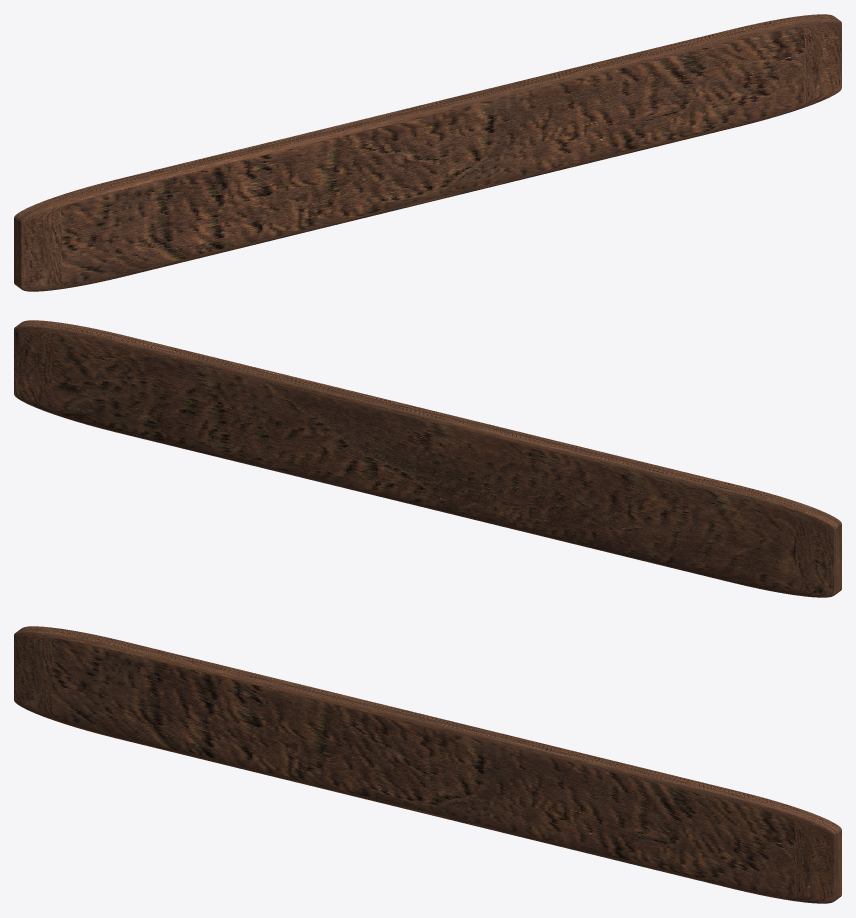
Rendered from WoodenBlank.fbx.
The picture shows the model from 3 angles, top to bottom: view 1: azimuth 30°, elevation 25°; view 2: azimuth 150°, elevation 25°; view 3: azimuth 330°, elevation 25°; orthographic projection.
Visible parts, largest first — view 1: Cube; view 2: Cube; view 3: Cube.
Part boxes in pixels (<box>): Cube: <box>14,14,841,291</box>; Cube: <box>14,320,841,597</box>; Cube: <box>14,626,841,903</box>.
Bounding box in the file's own units: 935 × 100 × 20.
Materials: 1 (1 with a texture image).
